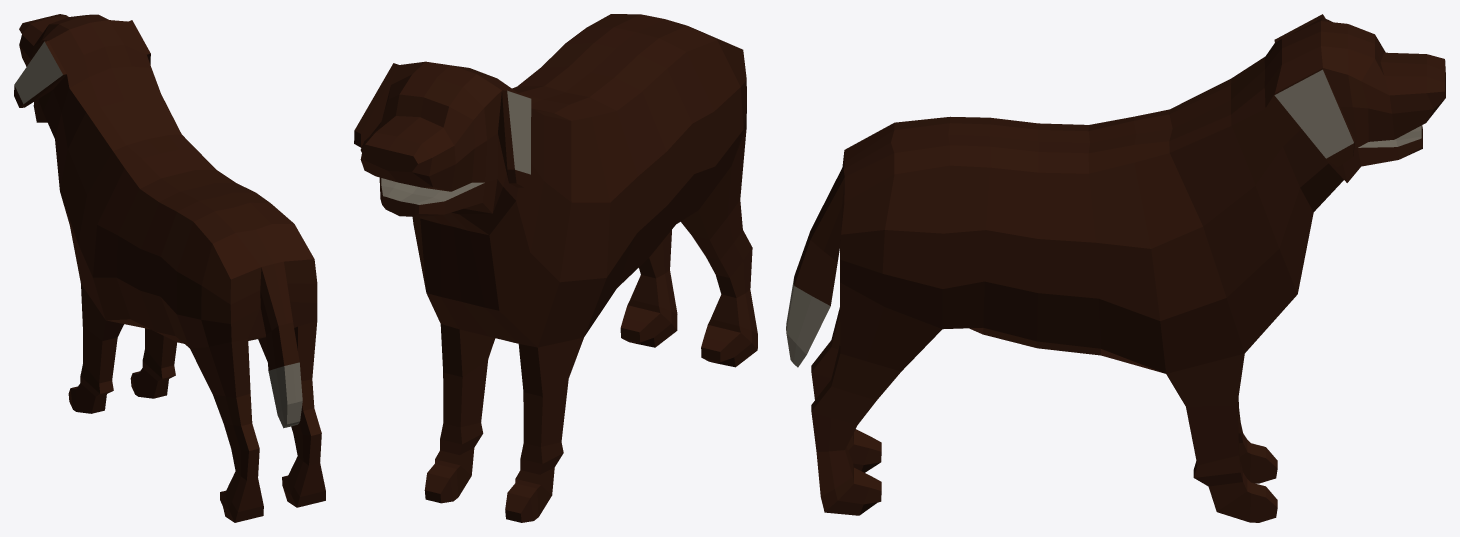
File: dog2_2.fbx
3 renders of one model, left to right at view 1: azimuth 30°, elevation 25°; view 2: azimuth 150°, elevation 25°; view 3: azimuth 270°, elevation 25°, orthographic. The views are drawn at different scales.
Visible parts, largest first — view 1: Vert; view 2: Vert; view 3: Vert.
Boxes of the visible parts, <box> form: Vert: <box>14,14,325,522</box>; Vert: <box>354,14,757,522</box>; Vert: <box>786,14,1445,522</box>.
Size of the model in its own units: 73.31 by 198 by 254.
